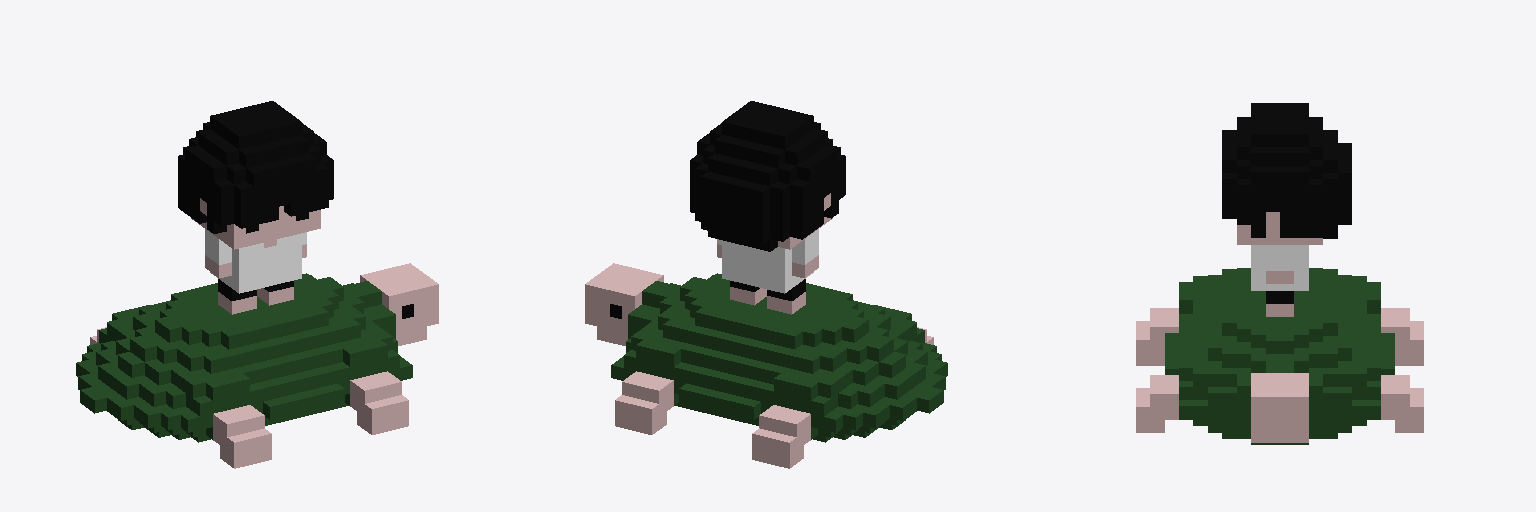
3 views of the same model, side by side, from view 1: azimuth 30°, elevation 25°; view 2: azimuth 150°, elevation 25°; view 3: azimuth 270°, elevation 25° (orthographic).
Size of the model in its own units: 27 by 21 by 20.
1 materials, 1 textured.